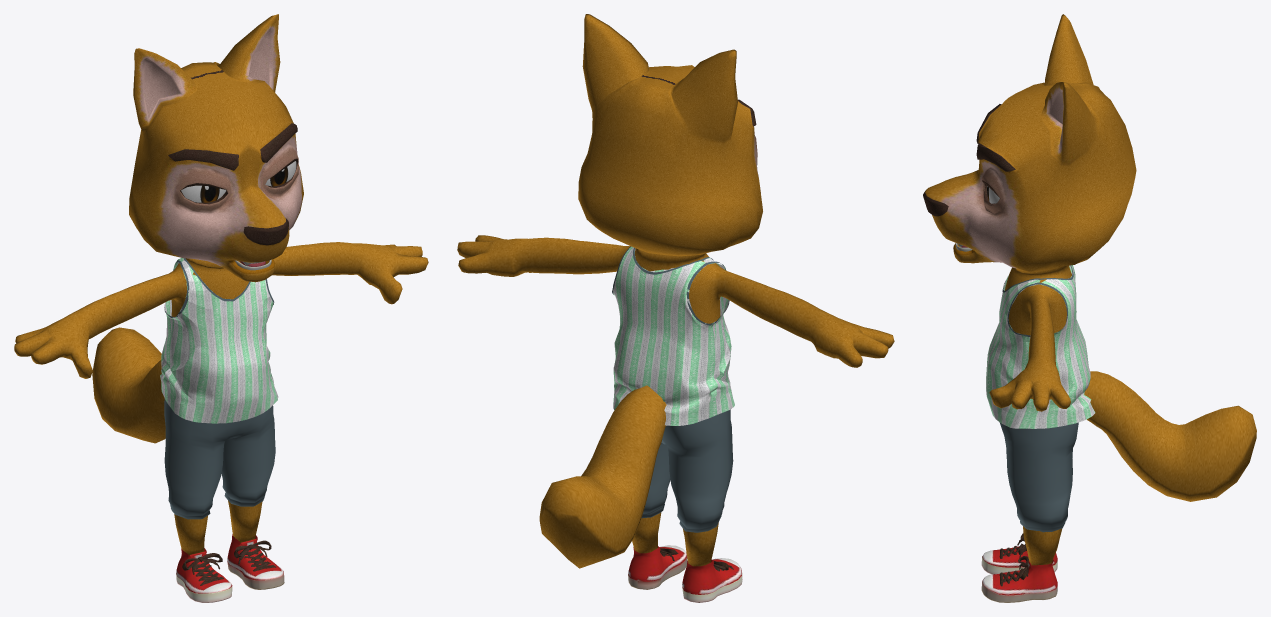
File: chr.fbx
3 views of the same model, side by side, from view 1: azimuth 30°, elevation 25°; view 2: azimuth 150°, elevation 25°; view 3: azimuth 270°, elevation 25° (orthographic). The views are drawn at different scales.
Visible parts, largest first — view 1: Body, TankTOp, pant, Eyes; view 2: Body, TankTOp, pant; view 3: Body, TankTOp, pant.
Boxes of the visible parts, x1=… form: Body: x1=14, y1=14, x2=428, y2=602; TankTOp: x1=160, y1=258, x2=278, y2=423; pant: x1=164, y1=399, x2=275, y2=519; Eyes: x1=181, y1=161, x2=296, y2=202; Body: x1=457, y1=14, x2=894, y2=602; TankTOp: x1=612, y1=246, x2=734, y2=425; pant: x1=641, y1=409, x2=733, y2=532; Body: x1=923, y1=14, x2=1256, y2=602; TankTOp: x1=986, y1=265, x2=1095, y2=428; pant: x1=999, y1=422, x2=1078, y2=532.
Size of the model in its own units: 24.61 by 30.94 by 17.56.
Materials: 2 (2 with a texture image).
